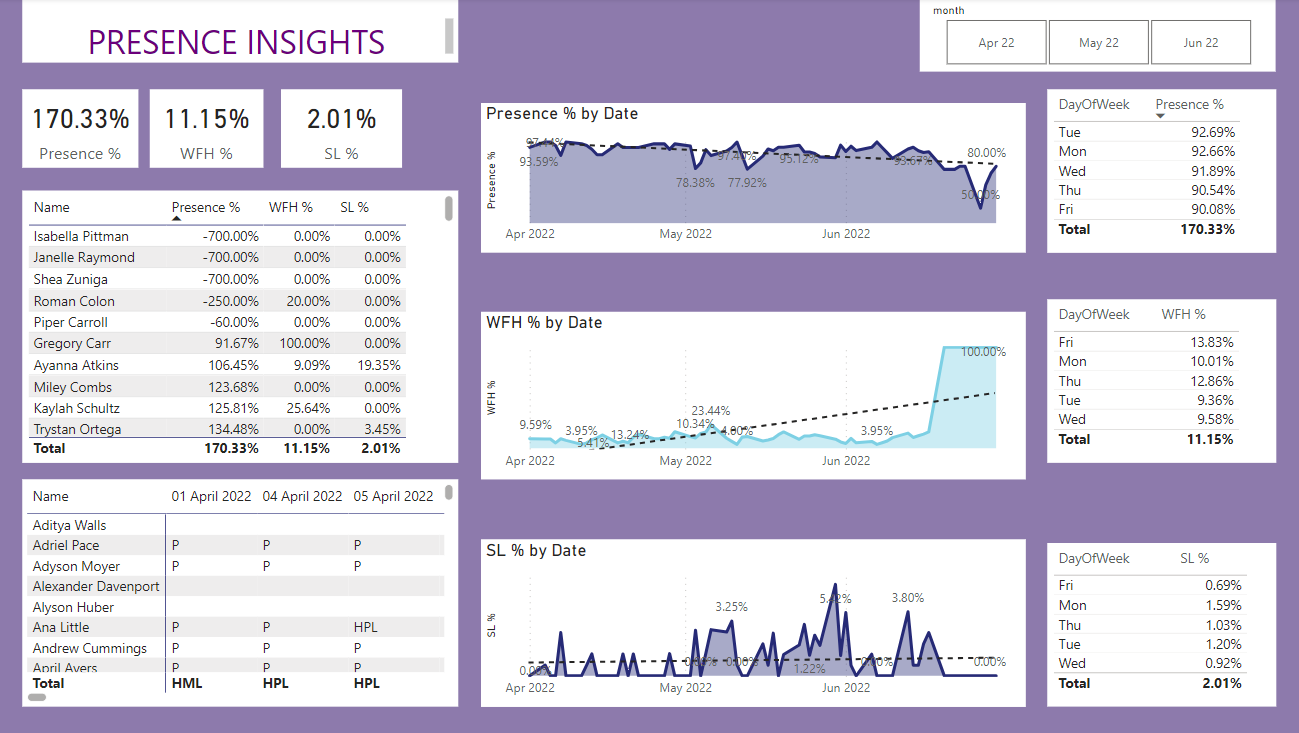

The page's visual inventory and layout, read from the dashboard file:
{"tool":"powerbi","page":{"name":"Page 1","canvas":[1280,720],"ordinal":0},"visuals":[{"type":"card","fields":{"Values":["Measure Table.Presence %"]},"box":[25.7,89.2,113.7,77],"z":0},{"type":"slicer","fields":{"Values":["Final Data.month"]},"box":[903.4,0,348.4,72.1],"z":1000},{"type":"card","fields":{"Values":["Measure Table.Presence %"]},"box":[150.4,89.2,111.2,77],"z":2000},{"type":"card","fields":{"Values":["Measure Table.Presence %"]},"box":[278.7,89.2,118.6,77],"z":3000},{"type":"tableEx","fields":{"Values":["Final Data.Name","Measure Table.Presence %","Measure Table.WFH %","Measure Table.SL %"]},"box":[25.7,188.3,426.6,266.5],"z":4000},{"type":"textbox","box":[25.7,0,426.6,63.6],"z":5000},{"type":"pivotTable","fields":{"Rows":["Final Data.Name"],"Values":["Min(Final Data.Value)"],"Columns":["Final Data.Date"]},"box":[25.7,470.6,426.6,222.5],"z":6000},{"type":"areaChart","fields":{"Category":["Final Data.Date"],"Y":["Measure Table.Presence %"]},"box":[474.3,102.7,533,146.7],"z":7000},{"type":"areaChart","fields":{"Category":["Final Data.Date"],"Y":["Measure Table.WFH %"]},"box":[474.3,306.8,533,163.8],"z":8000},{"type":"areaChart","fields":{"Category":["Final Data.Date"],"Y":["Measure Table.SL %"]},"box":[474.3,529.3,533,163.8],"z":9000},{"type":"tableEx","fields":{"Values":["Final Data.DayOfWeek","Measure Table.Presence %"]},"box":[1028,89.2,223.7,160.1],"z":10000},{"type":"tableEx","fields":{"Values":["Final Data.DayOfWeek","Measure Table.WFH %"]},"box":[1028,294.6,223.7,160.1],"z":11000},{"type":"tableEx","fields":{"Values":["Final Data.DayOfWeek","Measure Table.SL %"]},"box":[1028,533,223.7,160.1],"z":12000}]}

Visuals, with their boxes in screenshot pixels (x1, y1, x2, y2), scaled from the page's 1280x720 canvas onto the 1299x733 screenshot:
card - Measure Table.Presence %: <box>26,91,141,169</box>
slicer - Final Data.month: <box>917,0,1270,73</box>
card - Measure Table.Presence %: <box>153,91,265,169</box>
card - Measure Table.Presence %: <box>283,91,403,169</box>
tableEx - Final Data.Name x Measure Table.Presence %: <box>26,192,459,463</box>
textbox: <box>26,0,459,65</box>
pivotTable - Final Data.Name x Min(Final Data.Value): <box>26,479,459,706</box>
areaChart - Final Data.Date x Measure Table.Presence %: <box>481,105,1022,254</box>
areaChart - Final Data.Date x Measure Table.WFH %: <box>481,312,1022,479</box>
areaChart - Final Data.Date x Measure Table.SL %: <box>481,539,1022,706</box>
tableEx - Final Data.DayOfWeek x Measure Table.Presence %: <box>1043,91,1270,254</box>
tableEx - Final Data.DayOfWeek x Measure Table.WFH %: <box>1043,300,1270,463</box>
tableEx - Final Data.DayOfWeek x Measure Table.SL %: <box>1043,543,1270,706</box>
